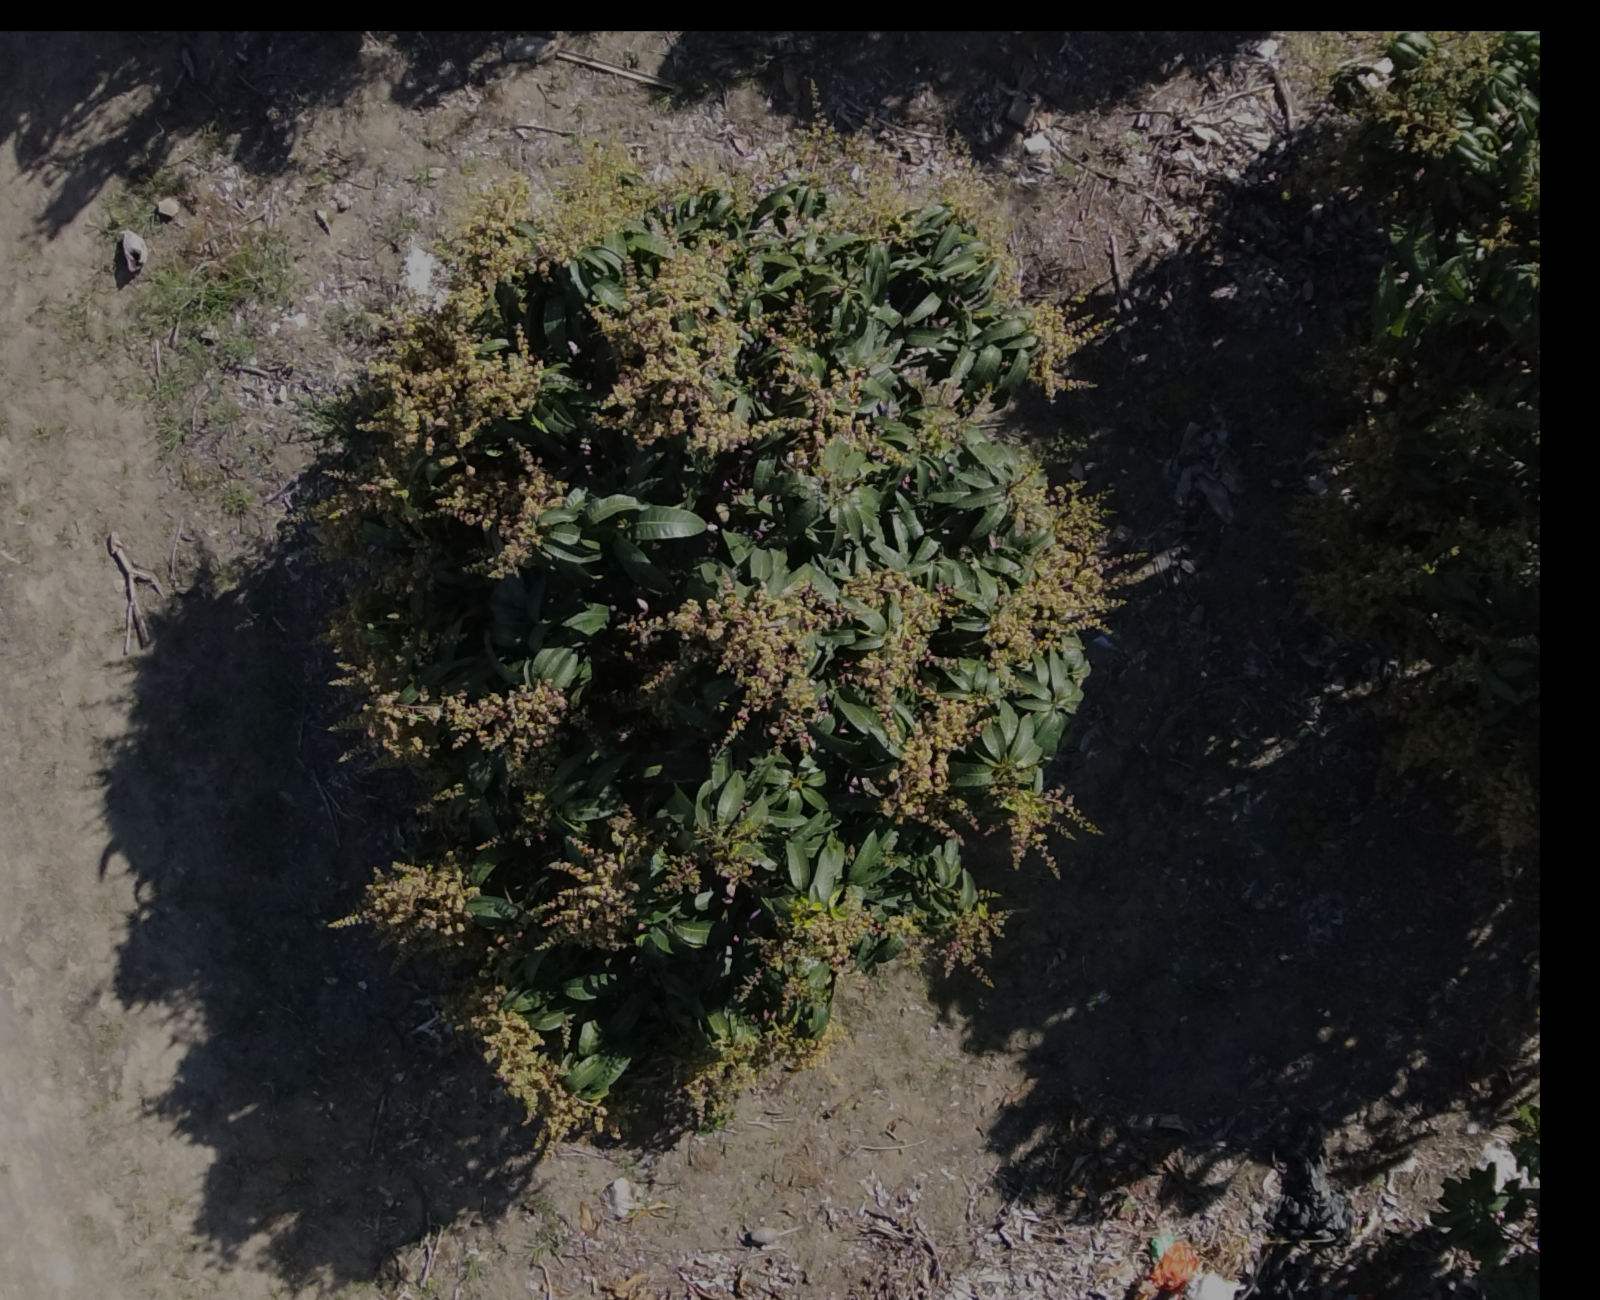flowers: (570, 191, 911, 488), (683, 872, 1008, 1128), (1298, 409, 1474, 643), (620, 578, 840, 746), (444, 146, 655, 316), (1393, 622, 1539, 853), (340, 647, 589, 773), (984, 466, 1136, 670), (447, 987, 608, 1151), (710, 118, 911, 233), (366, 322, 544, 448), (685, 1008, 832, 1128), (436, 447, 565, 578), (1370, 32, 1503, 157), (872, 694, 986, 834), (543, 809, 647, 948), (330, 854, 478, 952), (990, 767, 1097, 876), (941, 159, 1023, 297), (1008, 289, 1109, 399), (310, 460, 398, 558), (1449, 513, 1539, 586), (941, 902, 1010, 986), (697, 820, 762, 899), (654, 849, 700, 891), (1526, 251, 1539, 291), (476, 834, 498, 850)
